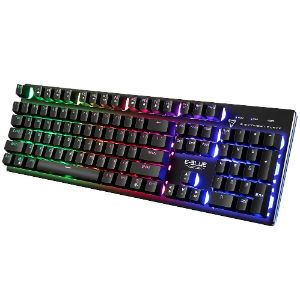keyboard: (2, 83, 297, 227)
